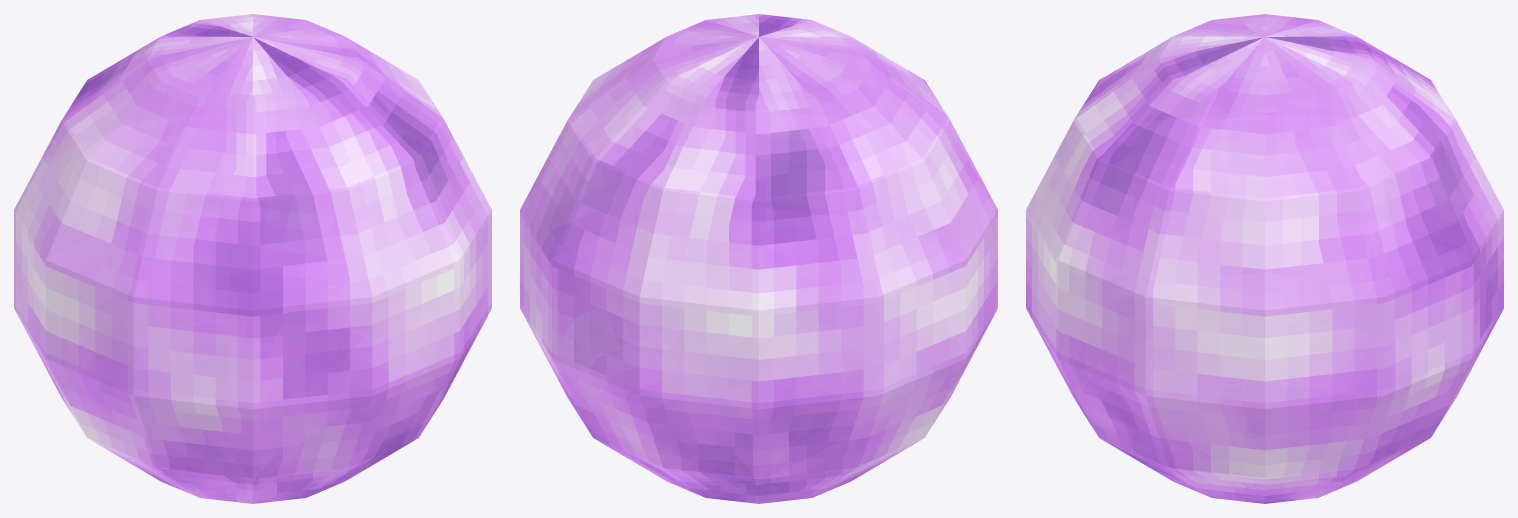
Rendered from blast.glb.
3 renders of one model, left to right at view 1: azimuth 30°, elevation 25°; view 2: azimuth 150°, elevation 25°; view 3: azimuth 270°, elevation 25°, orthographic.
Visible parts, largest first — view 1: blast; view 2: blast; view 3: blast.
Boxes of the visible parts, left/top/right/bottom form: blast: left=14, top=14, right=491, bottom=503; blast: left=520, top=14, right=997, bottom=503; blast: left=1026, top=14, right=1503, bottom=503.
Bounding box in the file's own units: 19.5 × 20 × 19.5.
1 material, 1 textured.
